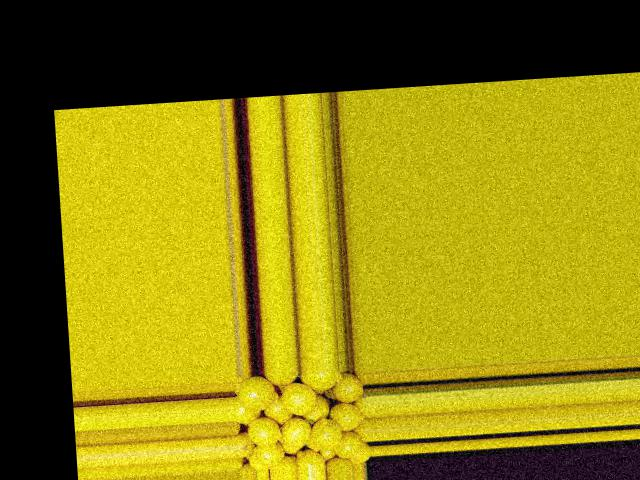lemon: (301, 369, 346, 390)
